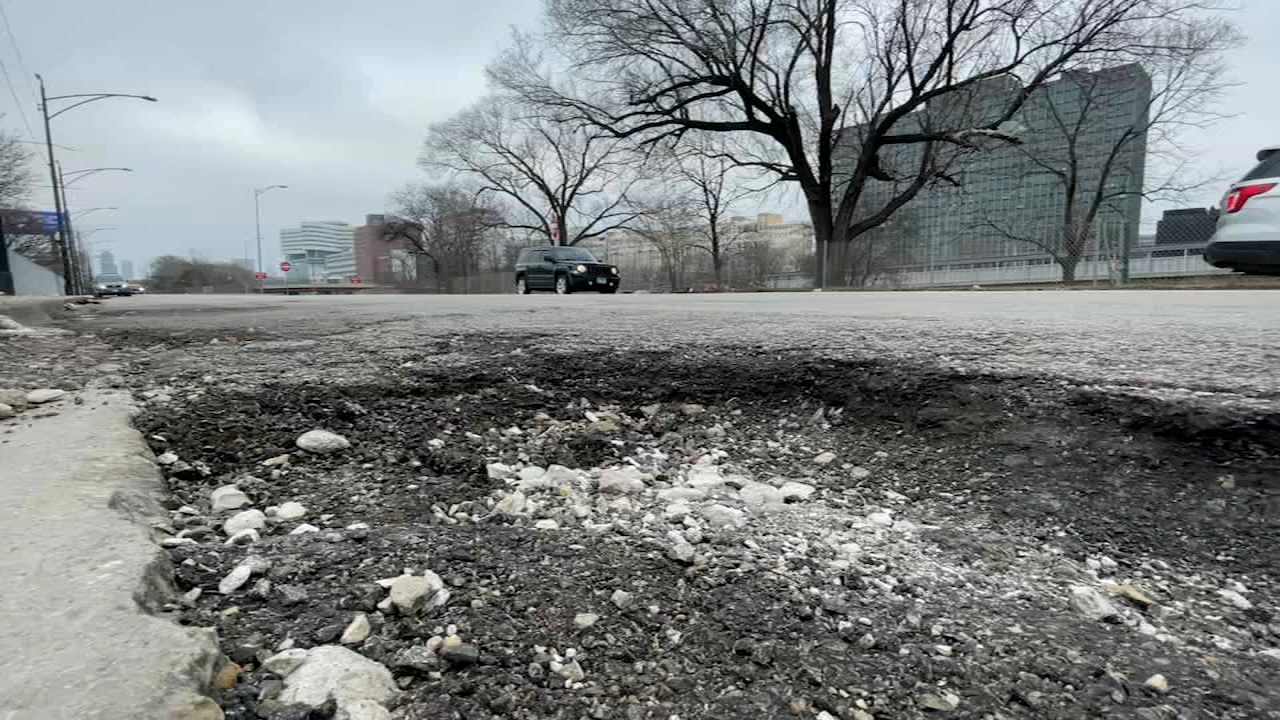Car: (513, 244, 619, 295)
Hole_in_the_road: (62, 339, 1280, 702)
Tree: (589, 1, 1050, 280), (991, 17, 1136, 271), (454, 61, 610, 241)
